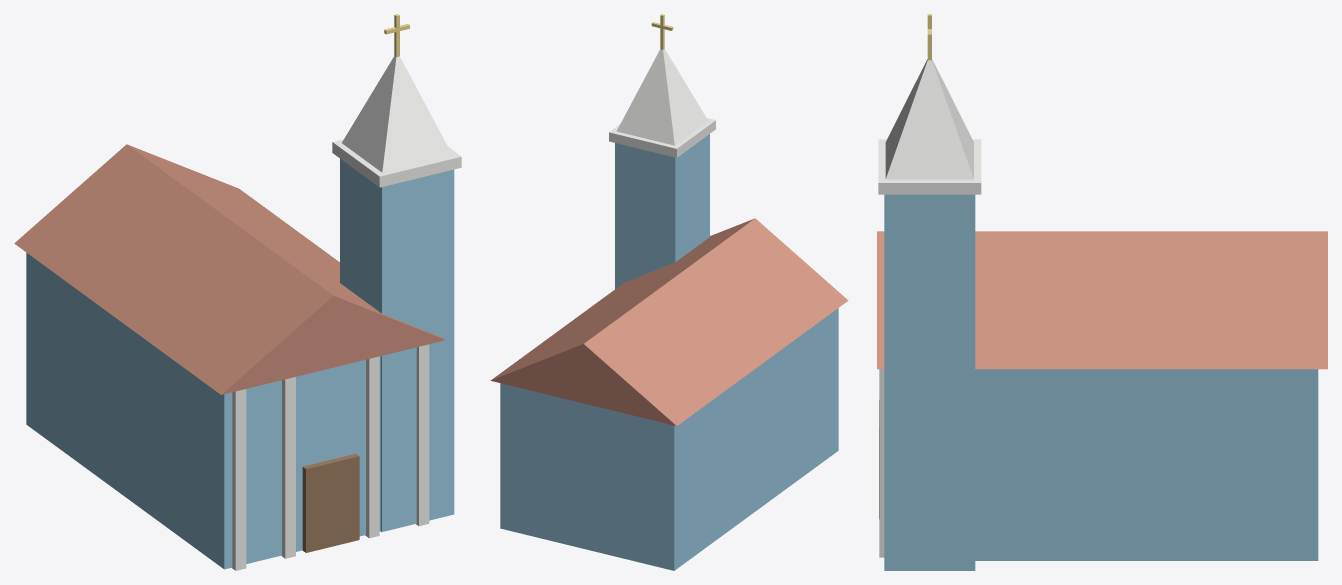
Rendered from Iglesia_Candelaria.fbx.
3 views of the same model, side by side, from view 1: azimuth 30°, elevation 25°; view 2: azimuth 150°, elevation 25°; view 3: azimuth 270°, elevation 25° (orthographic). The views are drawn at different scales.
Parts seen in each view (by area): view 1: Candelaria_Roof, Candelaria_Nave, Candelaria_BellTower, Cone, Cube.004, Cube, Cube.003, Cube.001, Cube.002, Cube.005; view 2: Candelaria_Nave, Candelaria_Roof, Candelaria_BellTower, Cone, Cube.005; view 3: Candelaria_Nave, Candelaria_Roof, Candelaria_BellTower, Cone, Cube.005, Cube.003.
Part boxes in pixels (left/top/right/bottom): Candelaria_Roof: left=14, top=144, right=445, bottom=394; Candelaria_Nave: left=26, top=252, right=380, bottom=569; Candelaria_BellTower: left=340, top=159, right=454, bottom=531; Cone: left=342, top=56, right=452, bottom=172; Cube.004: left=302, top=453, right=359, bottom=552; Cube: left=231, top=389, right=246, bottom=570; Cube.003: left=416, top=344, right=429, bottom=526; Cube.001: left=281, top=377, right=295, bottom=558; Cube.002: left=365, top=356, right=379, bottom=538; Cube.005: left=332, top=139, right=461, bottom=187; Candelaria_Nave: left=500, top=308, right=838, bottom=570; Candelaria_Roof: left=490, top=218, right=848, bottom=425; Candelaria_BellTower: left=615, top=134, right=709, bottom=288; Cone: left=616, top=48, right=708, bottom=145; Cube.005: left=609, top=118, right=715, bottom=157; Candelaria_Nave: left=975, top=369, right=1318, bottom=560; Candelaria_Roof: left=877, top=231, right=1327, bottom=369; Candelaria_BellTower: left=884, top=194, right=975, bottom=570; Cone: left=885, top=59, right=973, bottom=179; Cube.005: left=878, top=139, right=981, bottom=194; Cube.003: left=879, top=369, right=884, bottom=557.
Size of the model in its own units: 12.65 by 24.75 by 18.8.
